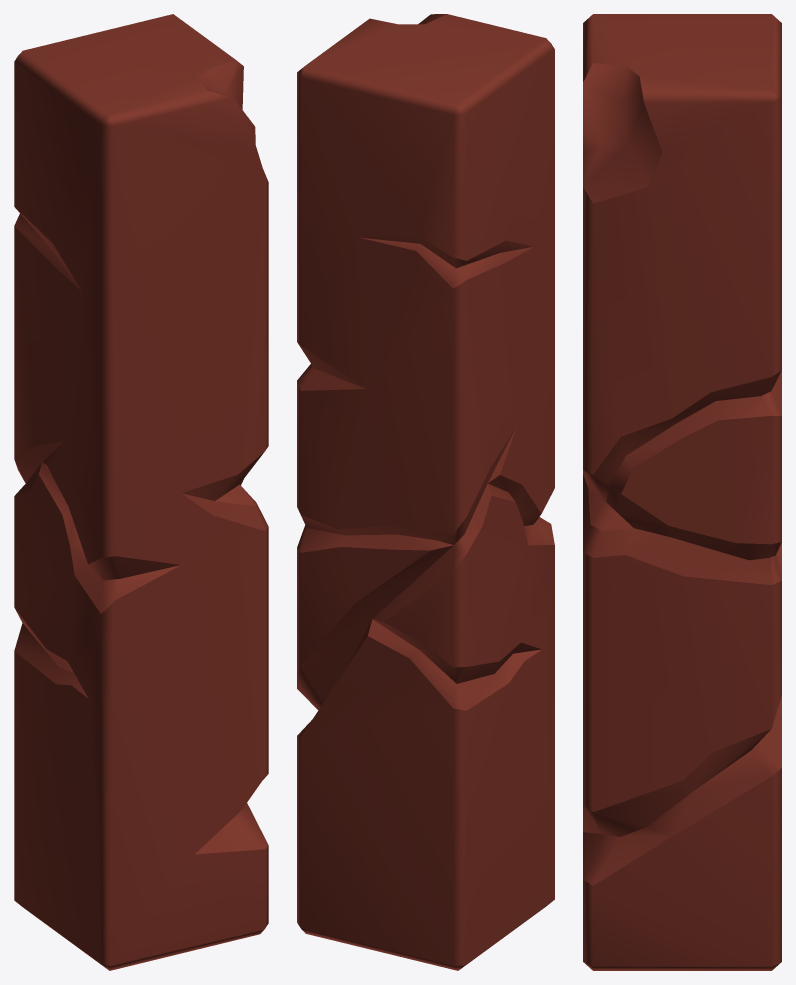
Rendered from pillar_003.fbx.
The picture shows the model from 3 angles, left to right: view 1: azimuth 30°, elevation 25°; view 2: azimuth 150°, elevation 25°; view 3: azimuth 270°, elevation 25°; orthographic projection. The views are drawn at different scales.
Visible parts, largest first — view 1: pillar_003; view 2: pillar_003; view 3: pillar_003.
Boxes of the visible parts, box(x1,y1,x2,y2) form: pillar_003: box(14, 14, 268, 970); pillar_003: box(297, 14, 554, 970); pillar_003: box(583, 14, 781, 970).
Size of the model in its own units: 200 by 200 by 978.
